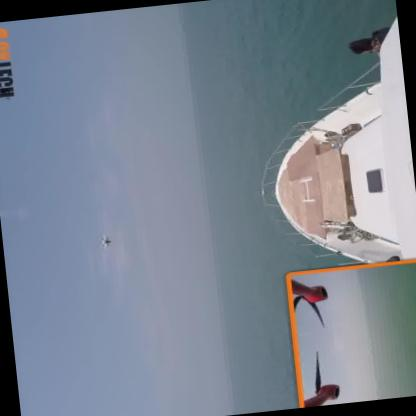drone: (94, 228, 122, 252)
